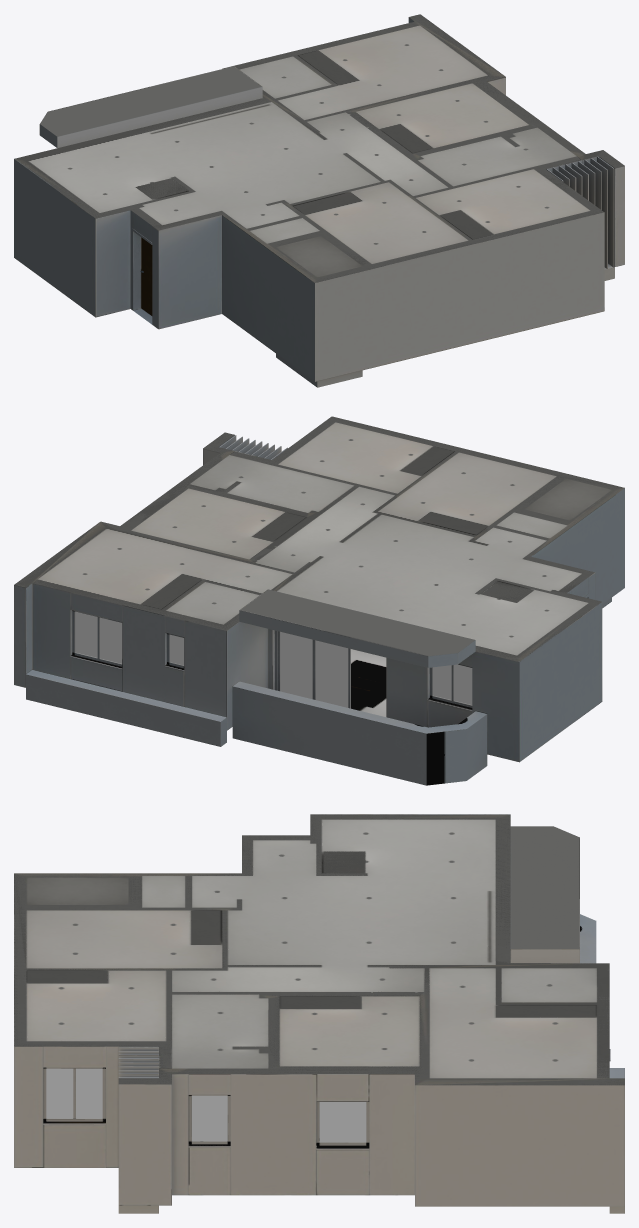
The model's file is walk.gltf.
The picture shows the model from 3 angles, top to bottom: view 1: azimuth 30°, elevation 25°; view 2: azimuth 150°, elevation 25°; view 3: azimuth 270°, elevation 25°; orthographic projection. The views are drawn at different scales.
Visible parts, largest first — view 1: WALK_group_1, WALK_group_0, WALK_group_5, WALK_group_2; view 2: WALK_group_1, WALK_group_0, WALK_group_4, WALK_group_5, GLASS_glass_2, WALK_floor, WALK_group_2; view 3: WALK_group_1, WALK_group_0, WALK_group_5, GLASS_glass_2, WALK_group_4, WALK_group_2.
Part boxes in pixels (bbox=[...]): WALK_group_1: bbox=[15, 14, 619, 282]; WALK_group_0: bbox=[14, 14, 624, 381]; WALK_group_5: bbox=[39, 66, 614, 387]; WALK_group_2: bbox=[137, 156, 614, 315]; WALK_group_1: bbox=[14, 417, 622, 661]; WALK_group_0: bbox=[14, 416, 624, 762]; WALK_group_4: bbox=[26, 594, 588, 785]; WALK_group_5: bbox=[239, 589, 611, 667]; GLASS_glass_2: bbox=[75, 611, 472, 707]; WALK_floor: bbox=[351, 649, 386, 716]; WALK_group_2: bbox=[219, 435, 533, 602]; WALK_group_1: bbox=[14, 814, 623, 1085]; WALK_group_0: bbox=[14, 814, 624, 1206]; WALK_group_5: bbox=[118, 826, 579, 1213]; GLASS_glass_2: bbox=[46, 1068, 366, 1141]; WALK_group_4: bbox=[43, 914, 624, 1213]; WALK_group_2: bbox=[118, 851, 364, 1078].
Size of the model in its own units: 12.46 by 3.2 by 11.87.
Materials: 9 (7 with a texture image).
